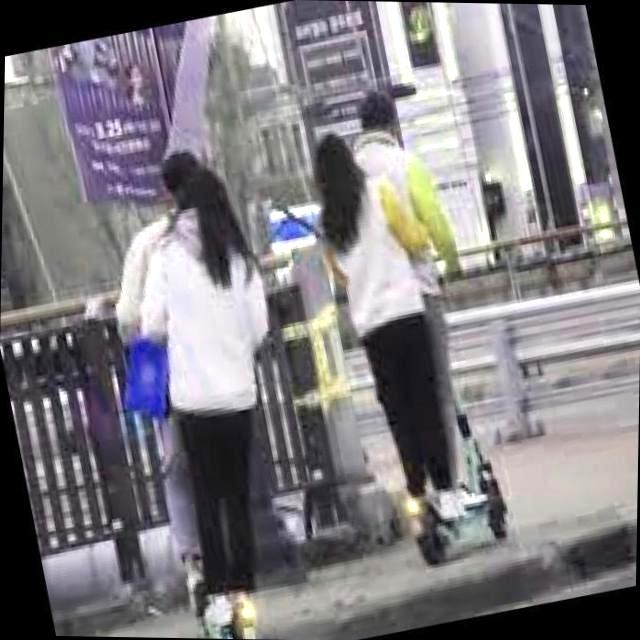bare_head: (179, 155, 240, 233), (349, 85, 409, 156), (151, 149, 217, 207), (307, 125, 361, 195)
human: (329, 93, 489, 513), (301, 134, 469, 515), (148, 179, 280, 621), (125, 161, 241, 622)
kickboard: (396, 489, 528, 551), (172, 579, 266, 640)
